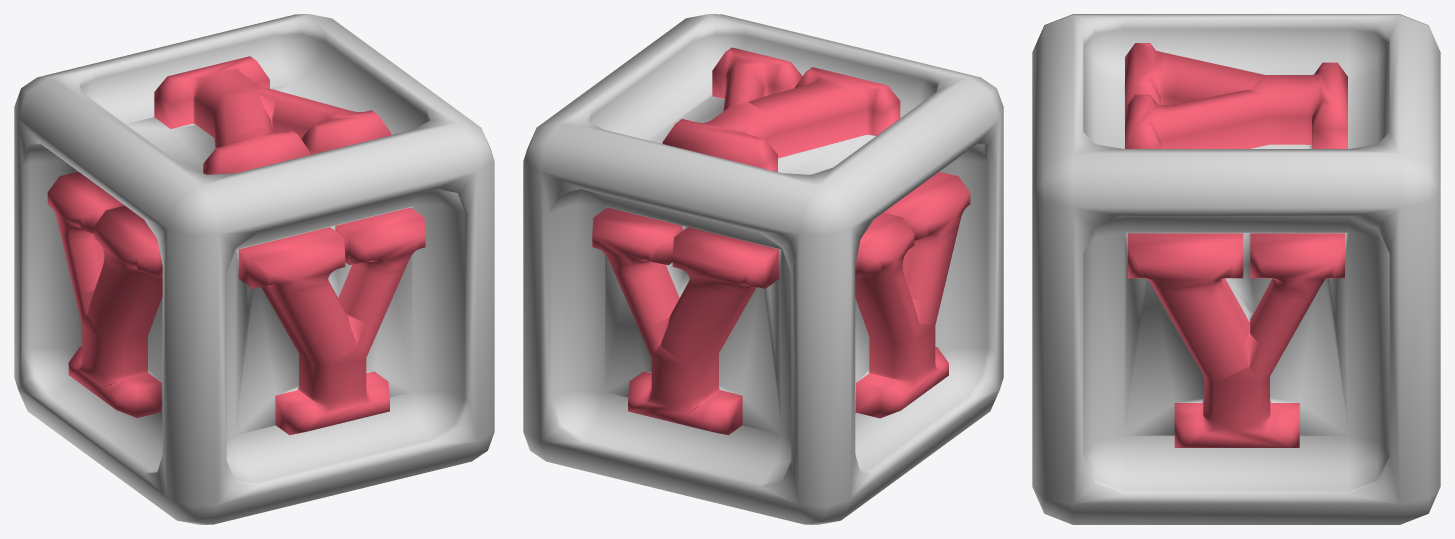
The picture shows the model from 3 angles, left to right: view 1: azimuth 30°, elevation 25°; view 2: azimuth 150°, elevation 25°; view 3: azimuth 270°, elevation 25°; orthographic projection. The views are drawn at different scales.
Visible parts, largest first — view 1: obj_0; view 2: obj_0; view 3: obj_0.
Part boxes in pixels (x1,y1,x2,y2): obj_0: (14,14,494,524); obj_0: (523,14,1003,524); obj_0: (1032,14,1440,524).
Size of the model in its own units: 100 by 100 by 100.
